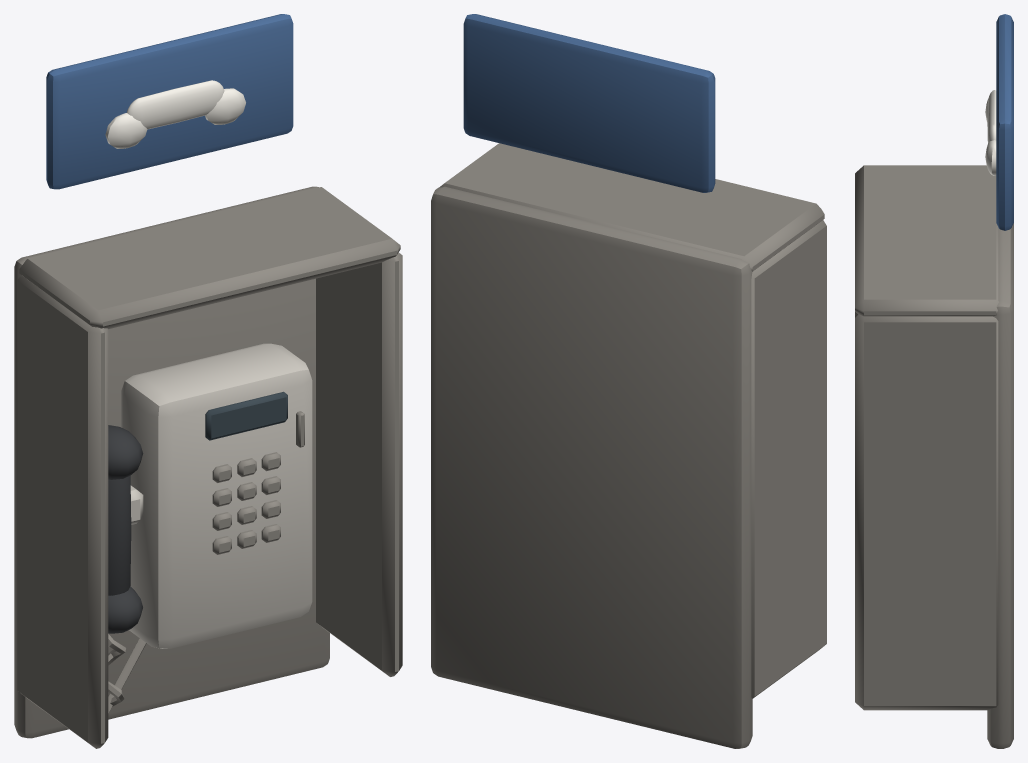
Rendered from payphone.glb.
The picture shows the model from 3 angles, left to right: view 1: azimuth 30°, elevation 25°; view 2: azimuth 150°, elevation 25°; view 3: azimuth 270°, elevation 25°; orthographic projection. The views are drawn at different scales.
Visible parts, largest first — view 1: steel_dark, steel, sign_blue, bag, sheet, screen; view 2: steel_dark, sign_blue; view 3: steel_dark, sign_blue, sheet.
Part boxes in pixels (x1=…): steel_dark: x1=14, y1=186, x2=402, y2=748; steel: x1=121, y1=343, x2=312, y2=648; sign_blue: x1=46, y1=14, x2=293, y2=189; bag: x1=108, y1=425, x2=143, y2=633; sheet: x1=105, y1=80, x2=245, y2=148; screen: x1=205, y1=391, x2=287, y2=440; steel_dark: x1=431, y1=143, x2=826, y2=748; sign_blue: x1=463, y1=14, x2=715, y2=192; steel_dark: x1=855, y1=165, x2=1013, y2=748; sign_blue: x1=996, y1=14, x2=1013, y2=230; sheet: x1=985, y1=90, x2=996, y2=175.
Bounding box in the file's own units: 0.385 × 0.77 × 0.18.
